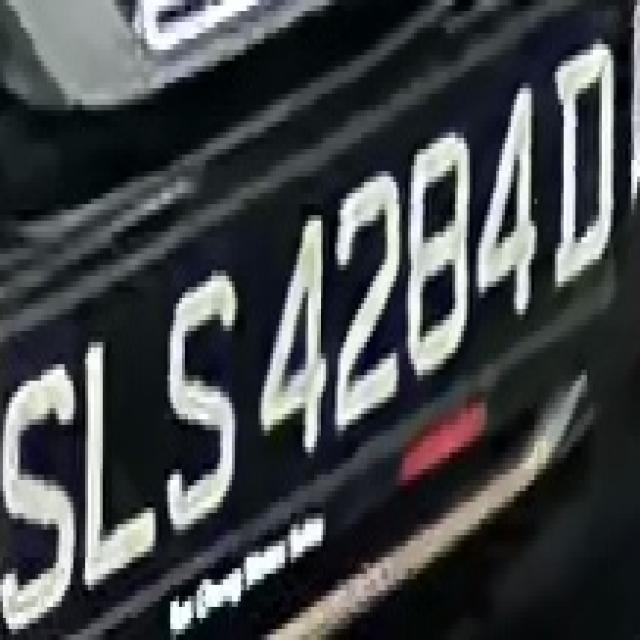2: (326, 160, 411, 430)
4: (255, 193, 338, 480), (473, 77, 546, 337)
8: (396, 105, 473, 392)
D: (549, 16, 628, 292)
L: (70, 314, 170, 596)
S: (147, 265, 238, 546), (3, 336, 76, 634)
